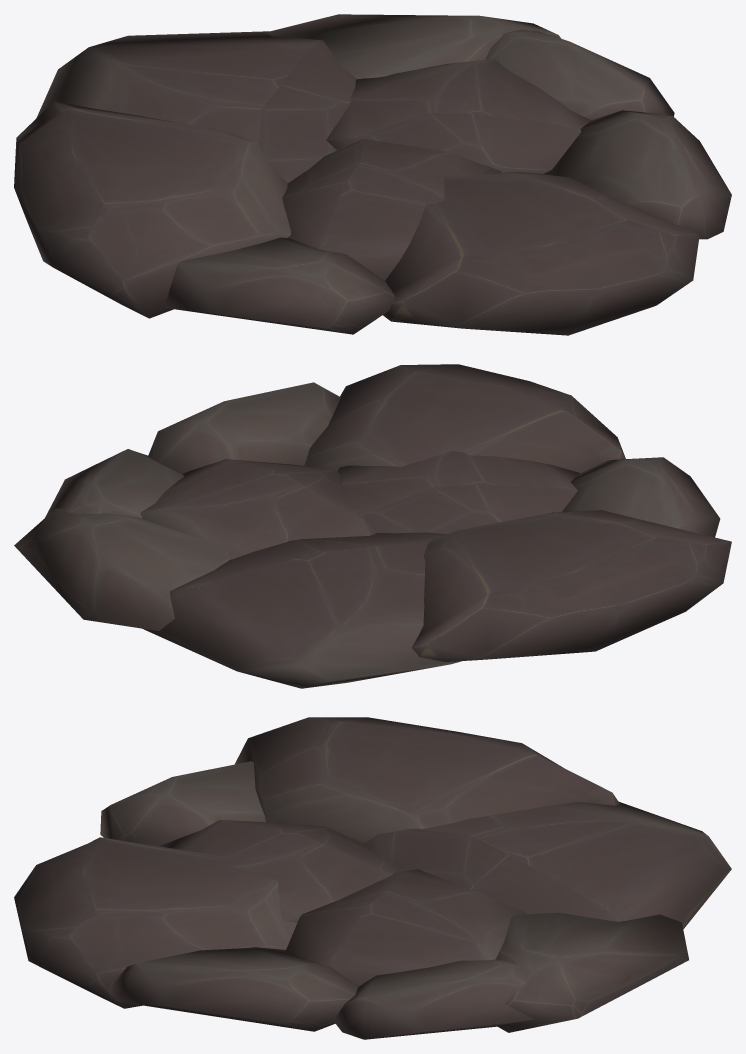
The model's file is unbroken rock.fbx.
The picture shows the model from 3 angles, top to bottom: view 1: azimuth 30°, elevation 25°; view 2: azimuth 150°, elevation 25°; view 3: azimuth 270°, elevation 25°; orthographic projection. The views are drawn at different scales.
Visible parts, largest first — view 1: Rock2Collider.004; view 2: Rock2Collider.004; view 3: Rock2Collider.004.
Boxes of the visible parts, box(x1,y1,x2,y2) form: Rock2Collider.004: box(14, 14, 731, 335); Rock2Collider.004: box(14, 364, 731, 688); Rock2Collider.004: box(14, 717, 731, 1039).
Size of the model in its own units: 734 by 115 by 761.
